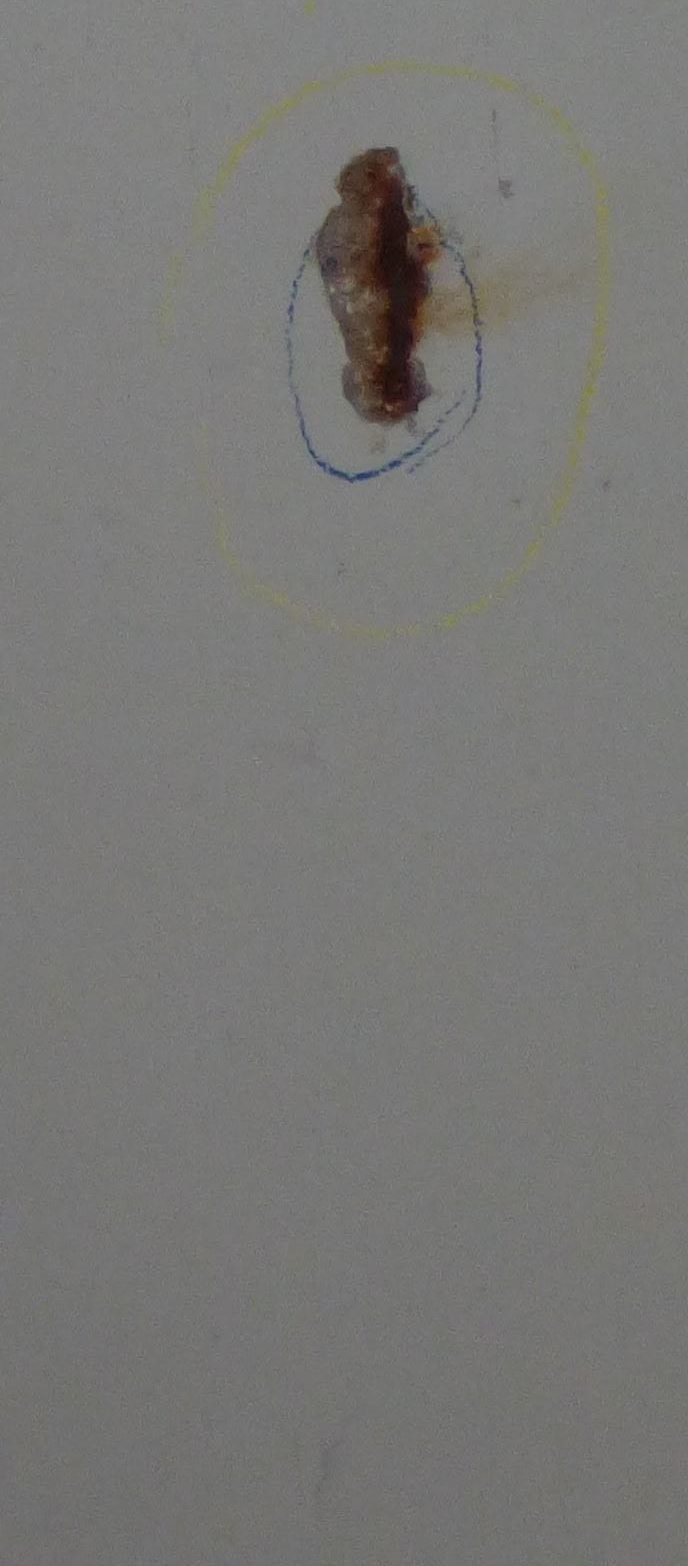Exposed reinforcement: (375, 202, 413, 402)
Spalling: (315, 145, 433, 426)
